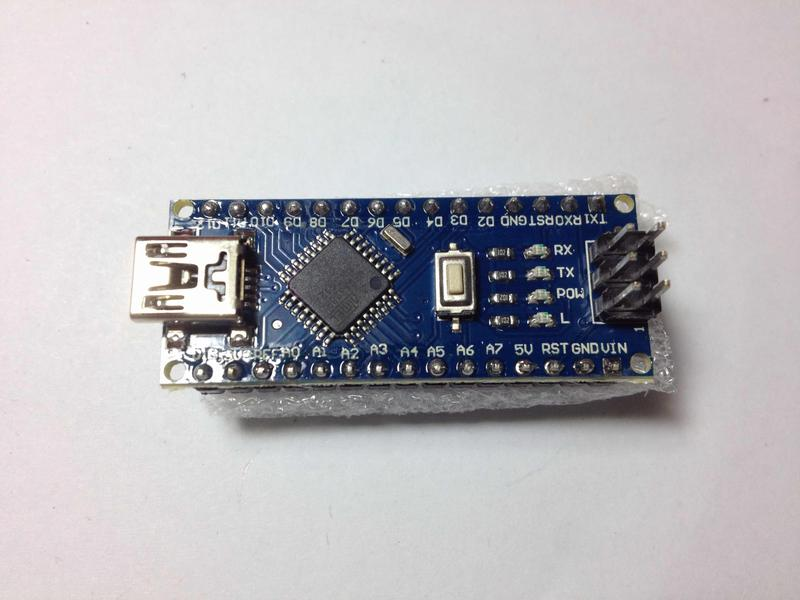Arduino_Nano: (128, 195, 673, 397)
